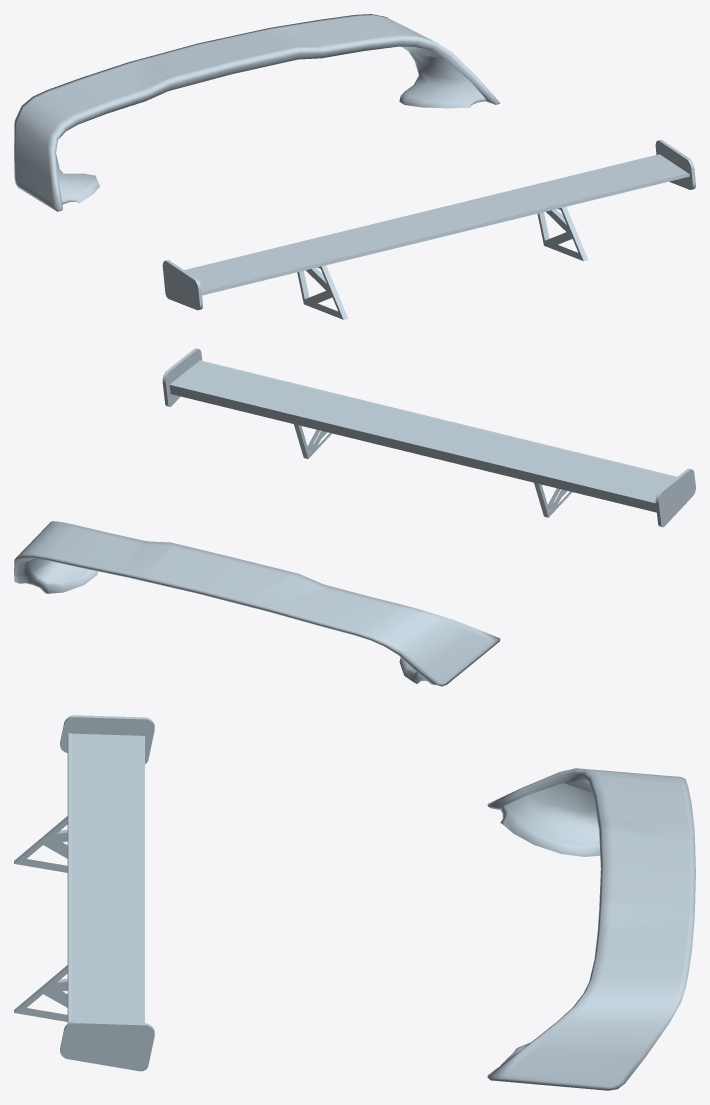
File: Spoilers.fbx
3 views of the same model, one above another, from view 1: azimuth 30°, elevation 25°; view 2: azimuth 150°, elevation 25°; view 3: azimuth 270°, elevation 25° (orthographic). The views are drawn at different scales.
Visible parts, largest first — view 1: Spoiler_B, Spoiler_A; view 2: Spoiler_B, Spoiler_A; view 3: Spoiler_B, Spoiler_A.
Boxes of the visible parts, x1,y1,x2,y2 form: Spoiler_B: (14, 14, 499, 211); Spoiler_A: (162, 139, 695, 319); Spoiler_B: (14, 521, 500, 686); Spoiler_A: (162, 348, 695, 527); Spoiler_B: (487, 768, 695, 1090); Spoiler_A: (14, 715, 154, 1071).
Bounding box in the file's own units: 122 × 18.54 × 114.
